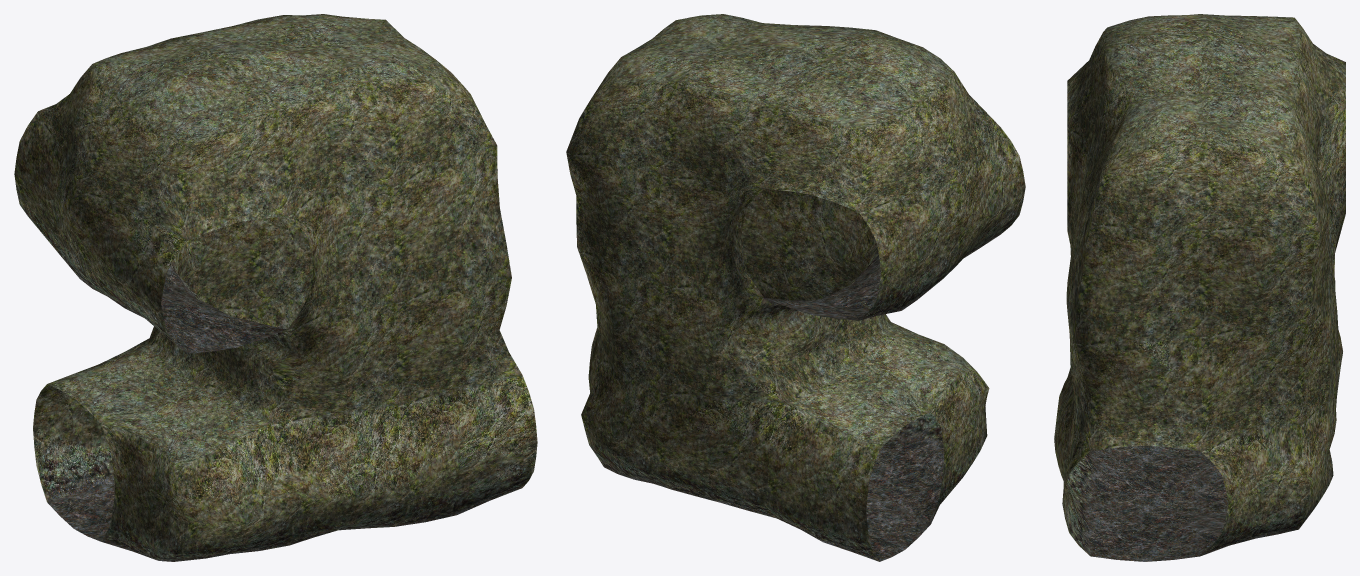
Rendered from thm_all_cave_s03_damprock_mirror_r16_r16.fbx.
3 renders of one model, left to right at view 1: azimuth 30°, elevation 25°; view 2: azimuth 150°, elevation 25°; view 3: azimuth 270°, elevation 25°, orthographic. The views are drawn at different scales.
Parts seen in each view (by area): view 1: mesh_node; view 2: mesh_node; view 3: mesh_node.
Part boxes in pixels (x1=…): mesh_node: x1=14, y1=14, x2=537, y2=561; mesh_node: x1=566, y1=14, x2=1025, y2=561; mesh_node: x1=1054, y1=14, x2=1345, y2=561.
Size of the model in its own units: 27.39 by 31.62 by 19.23.
